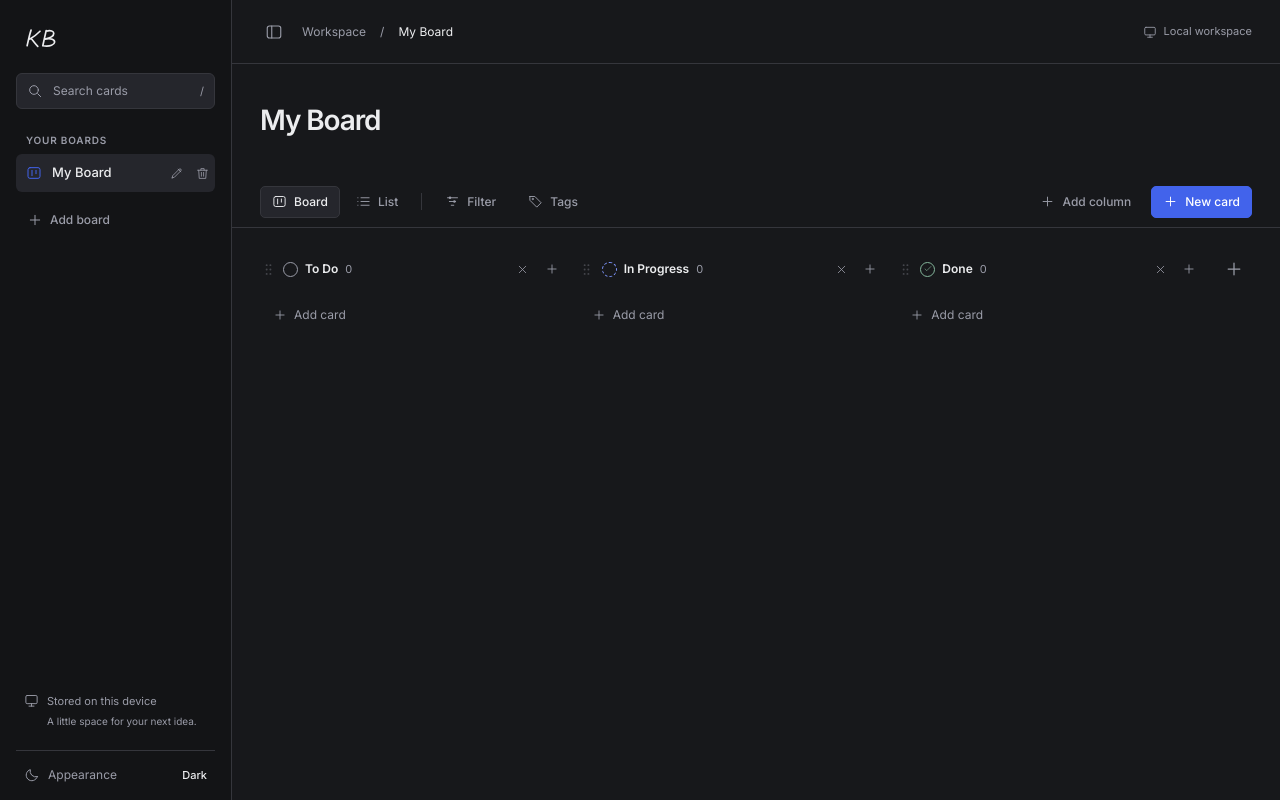
Scenario: Board UI › adds a card inline in the selected column on Enter
Expected: the heading "My Board" is shown, [260, 102, 380, 138]
Click the 2nd button "Add card" at (639, 314), box [579, 297, 881, 333]
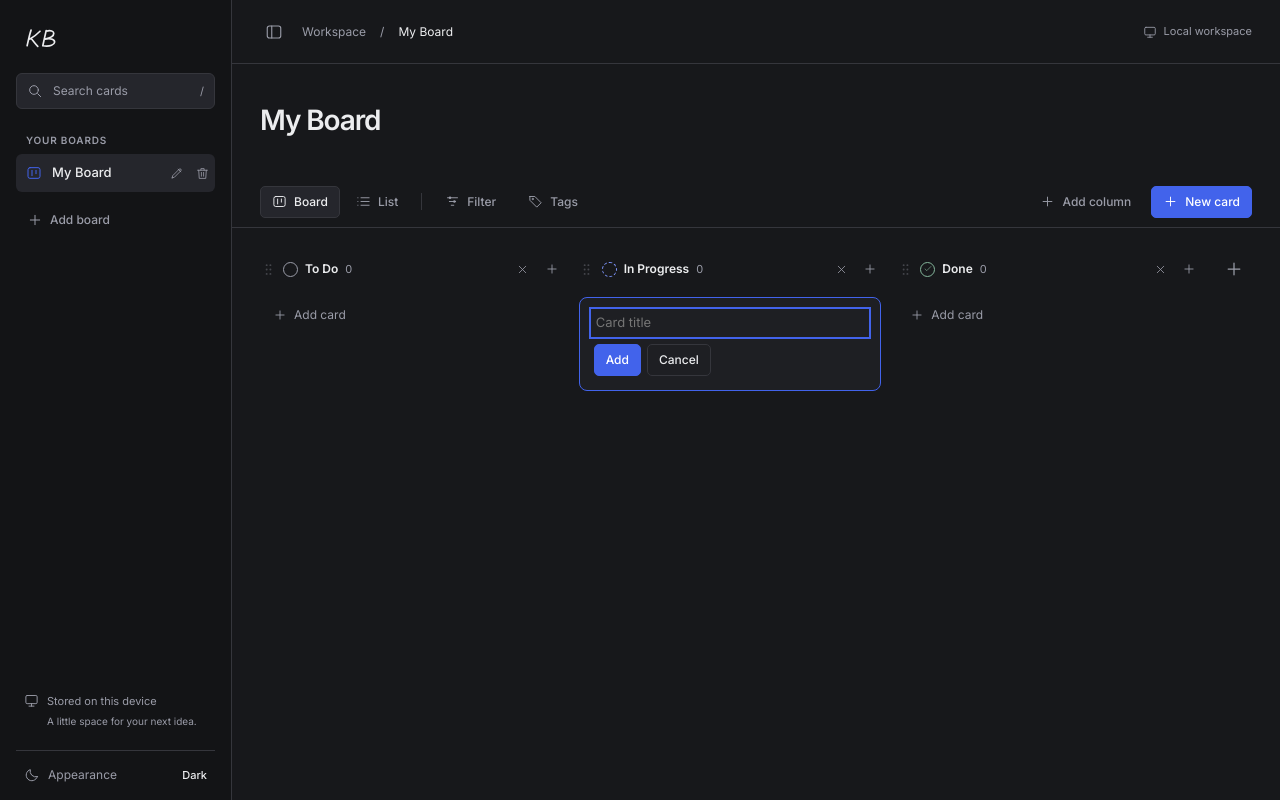
Type "  Hello  " into the field named "New card title in In Progress" at (730, 323), box [594, 312, 866, 334]
Then press Enter
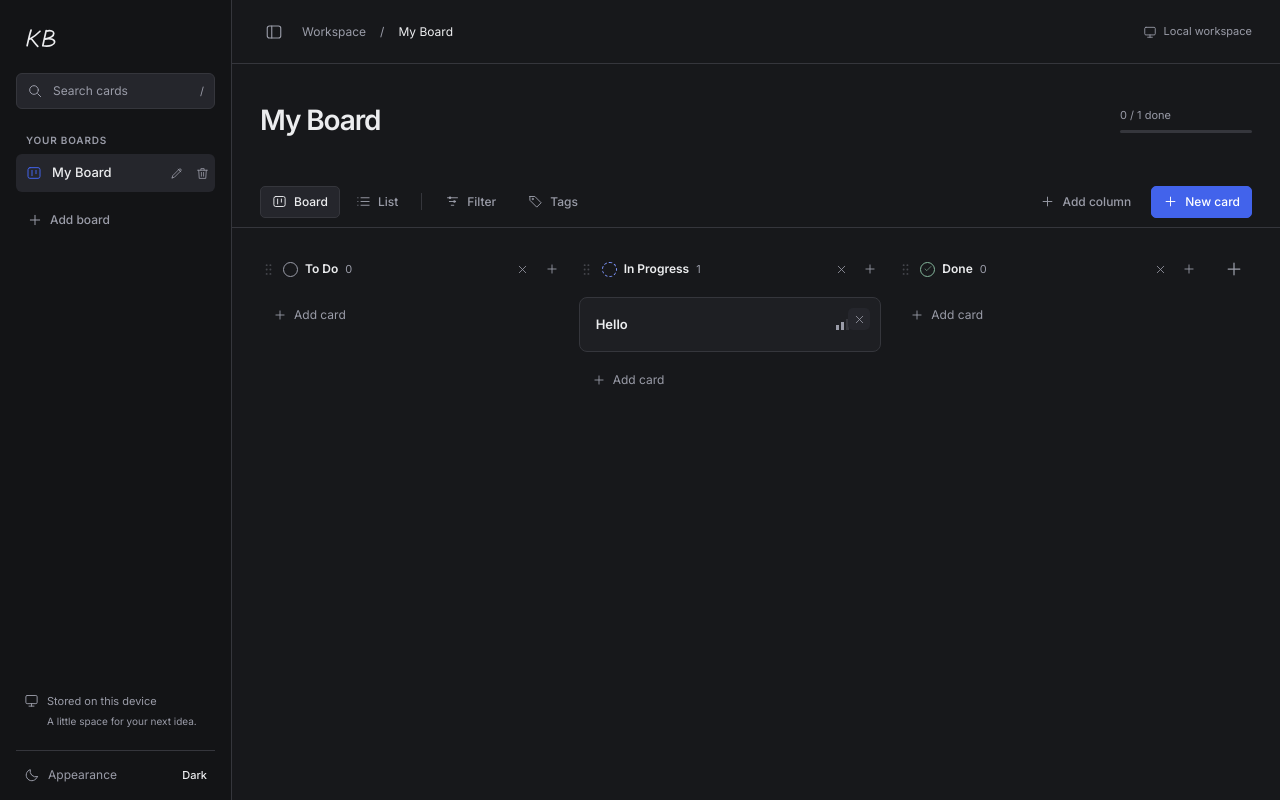
Expected: the heading "Hello" is shown, [596, 316, 628, 332]
